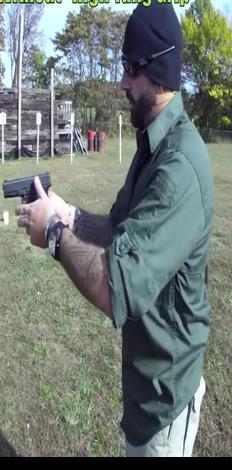pistol: (2, 170, 55, 246)
